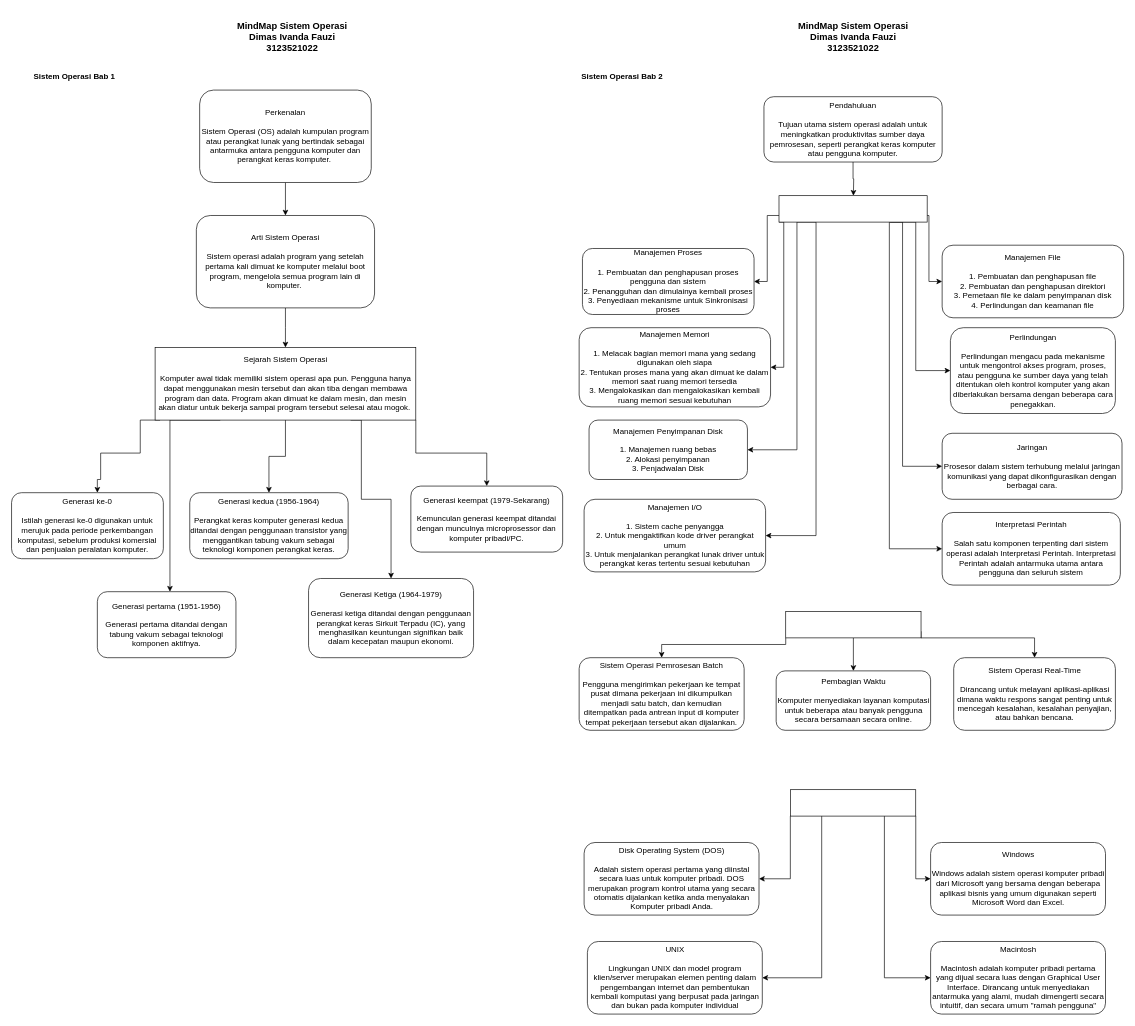
Some shapes in this 1135 by 1026 pixel diagram are drawn without their labels. The centre of each missing label's shape, as x and y in pixels:
Contoh Sistem Operasi: the point at 853,802
Jenis-jenis Sistem Operasi: the point at 853,624
Operasi dan Fungsi Sistem Operasi: the point at 852,208
